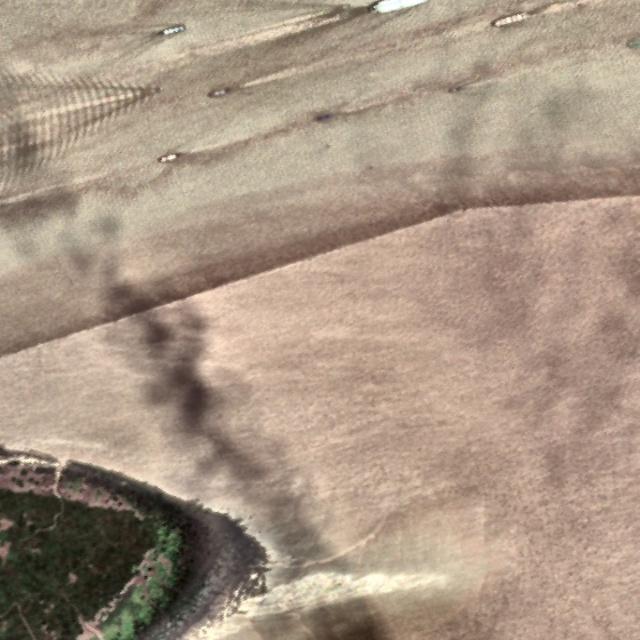wake: (38, 56, 164, 148)
